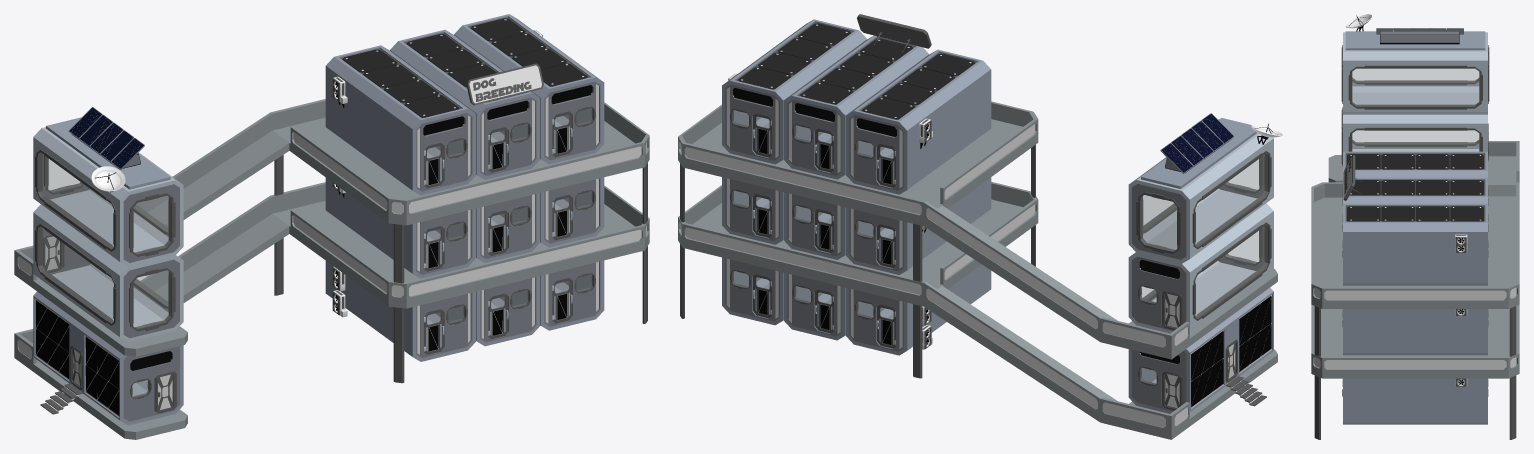
Rendered from breeding level 3 Legit.fbx.
3 views of the same model, side by side, from view 1: azimuth 30°, elevation 25°; view 2: azimuth 150°, elevation 25°; view 3: azimuth 270°, elevation 25° (orthographic). The views are drawn at different scales.
Parts seen in each view (by area): view 1: MAIN BUILDING, Cube.005, Cube.001, Cube.002, Cube.004, Cube.003, Cube.010, Cube.015, Cube.018, Cube.016, Cube.017, Cube.009; view 2: MAIN BUILDING, Cube.008, Cube.019, Cube.007, Cube.021, Cube.006, Cube.013, Cube.014, Cube.020, Cube.022, Cube.012, Cube.009; view 3: MAIN BUILDING, MAIN BUILDING.021.
Boxes of the visible parts, x1,y1,x2,y2 form: MAIN BUILDING: [14, 14, 649, 439]; Cube.005: [552, 111, 572, 157]; Cube.001: [424, 226, 444, 271]; Cube.002: [488, 210, 508, 255]; Cube.004: [424, 309, 444, 354]; Cube.003: [552, 195, 572, 240]; Cube.010: [154, 371, 176, 413]; Cube.015: [424, 143, 444, 188]; Cube.018: [552, 278, 572, 323]; Cube.016: [488, 127, 508, 172]; Cube.017: [488, 293, 508, 339]; Cube.009: [43, 235, 63, 273]; MAIN BUILDING: [678, 14, 1282, 439]; Cube.008: [814, 289, 833, 333]; Cube.019: [814, 209, 833, 252]; Cube.007: [876, 224, 895, 267]; Cube.021: [876, 304, 895, 348]; Cube.006: [876, 144, 895, 187]; Cube.013: [815, 128, 833, 172]; Cube.014: [753, 113, 771, 157]; Cube.020: [753, 194, 771, 237]; Cube.022: [753, 274, 771, 318]; Cube.012: [1162, 371, 1182, 410]; Cube.009: [1162, 290, 1182, 329]; MAIN BUILDING: [1311, 14, 1519, 439]; MAIN BUILDING.021: [1455, 234, 1467, 252].
Bounding box in the file's own units: 1034 × 478 × 409.
